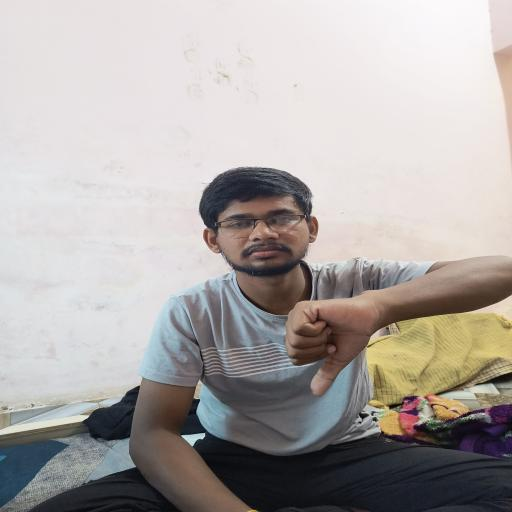Continue: (268, 296, 378, 398)
